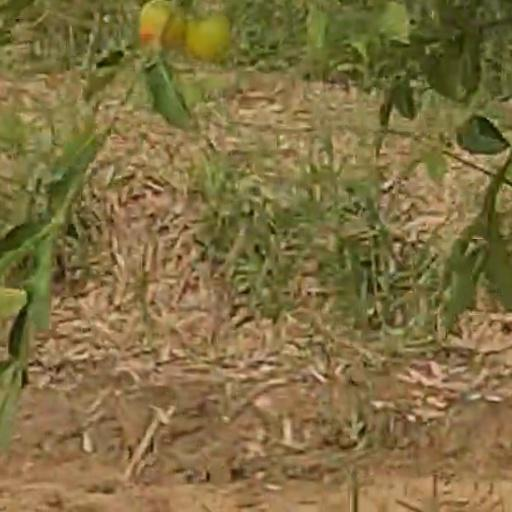acerola: (140, 2, 184, 49), (189, 16, 230, 59)
